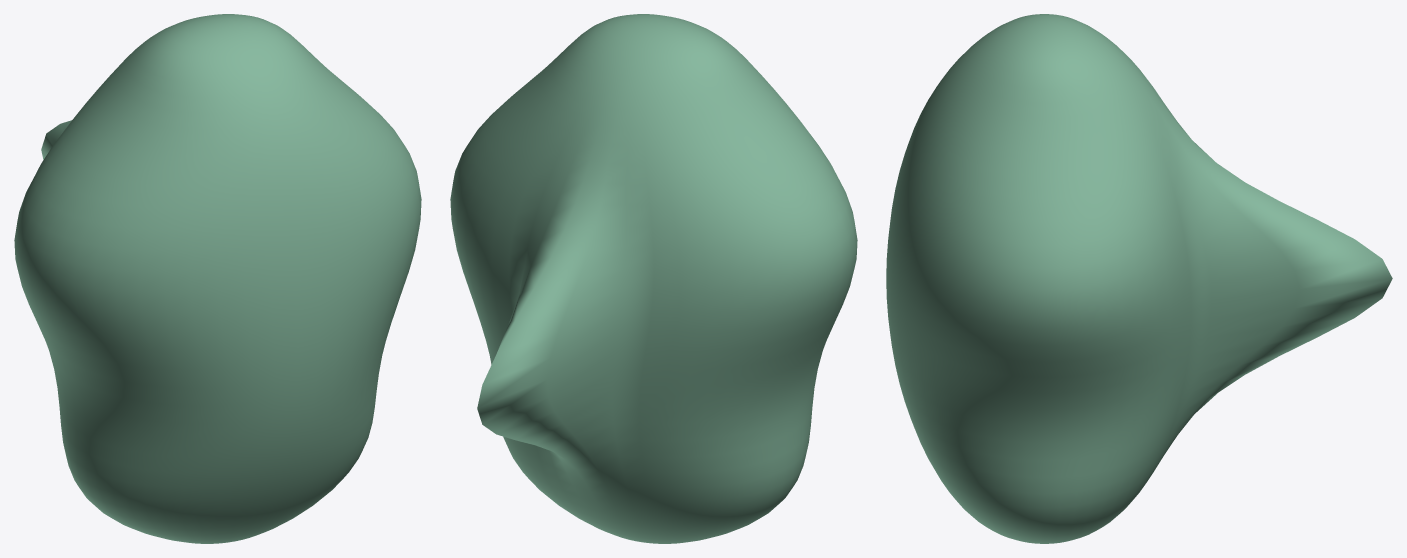
Rendered from surface_sculpted.glb.
3 views of the same model, side by side, from view 1: azimuth 30°, elevation 25°; view 2: azimuth 150°, elevation 25°; view 3: azimuth 270°, elevation 25° (orthographic).
Visible parts, largest first — view 1: face; view 2: face; view 3: face.
Part boxes in pixels (x1,y1,x2,y2): face: (14,14,421,543); face: (450,14,857,543); face: (886,14,1392,543).
Bounding box in the file's own units: 1.08 × 1.4 × 1.28.
